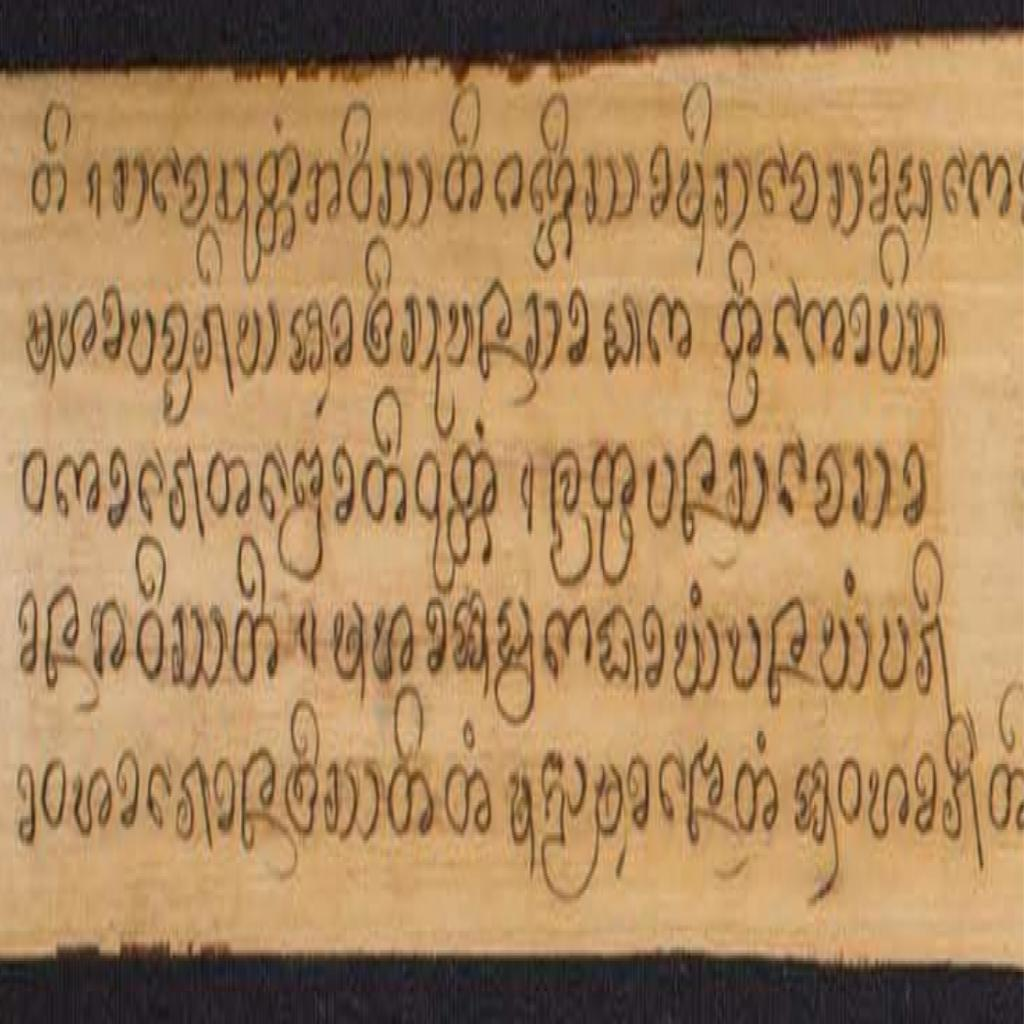LN014: (493, 588, 538, 737)
LN020: (595, 599, 641, 701)
